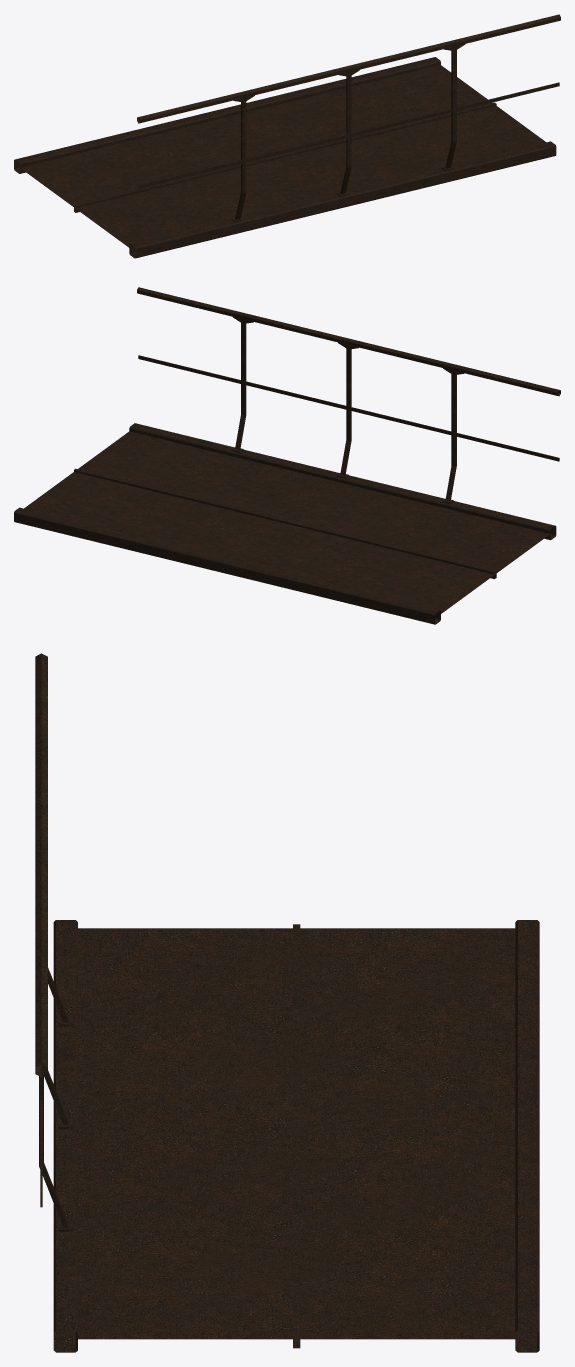
File: catwalk_1.glb
The picture shows the model from 3 angles, top to bottom: view 1: azimuth 30°, elevation 25°; view 2: azimuth 150°, elevation 25°; view 3: azimuth 270°, elevation 25°; orthographic projection. The views are drawn at different scales.
Visible parts, largest first — view 1: catwalk_1, handrail_4; view 2: catwalk_1, handrail_4; view 3: catwalk_1, handrail_4.
Boxes of the visible parts, x1,y1,x2,y2 form: catwalk_1: (14,57,556,258); handrail_4: (137,14,560,222); catwalk_1: (14,423,556,624); handrail_4: (137,287,560,503); catwalk_1: (53,920,539,1352); handrail_4: (35,653,73,1231).
Bounding box in the file's own units: 4 × 1.31 × 2.08.
Materials: 1 (1 with a texture image).
